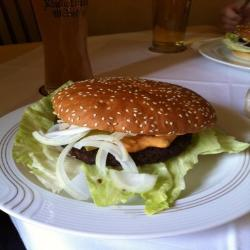burger: (41, 77, 218, 198)
salad: (24, 158, 202, 214)
